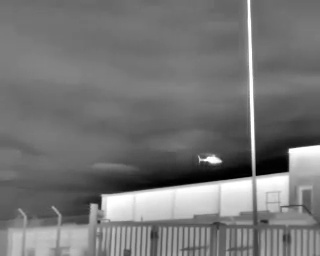HELICOPTER: (191, 147, 229, 170)
